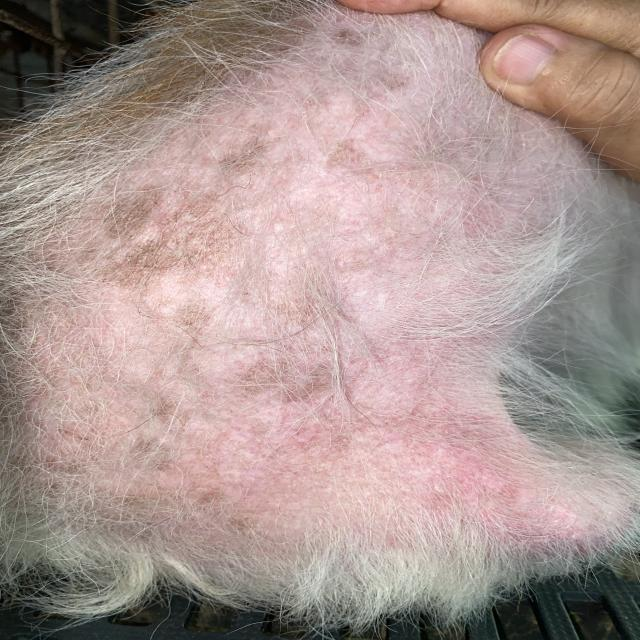demodicosis: (87, 56, 496, 329), (87, 346, 519, 560)
